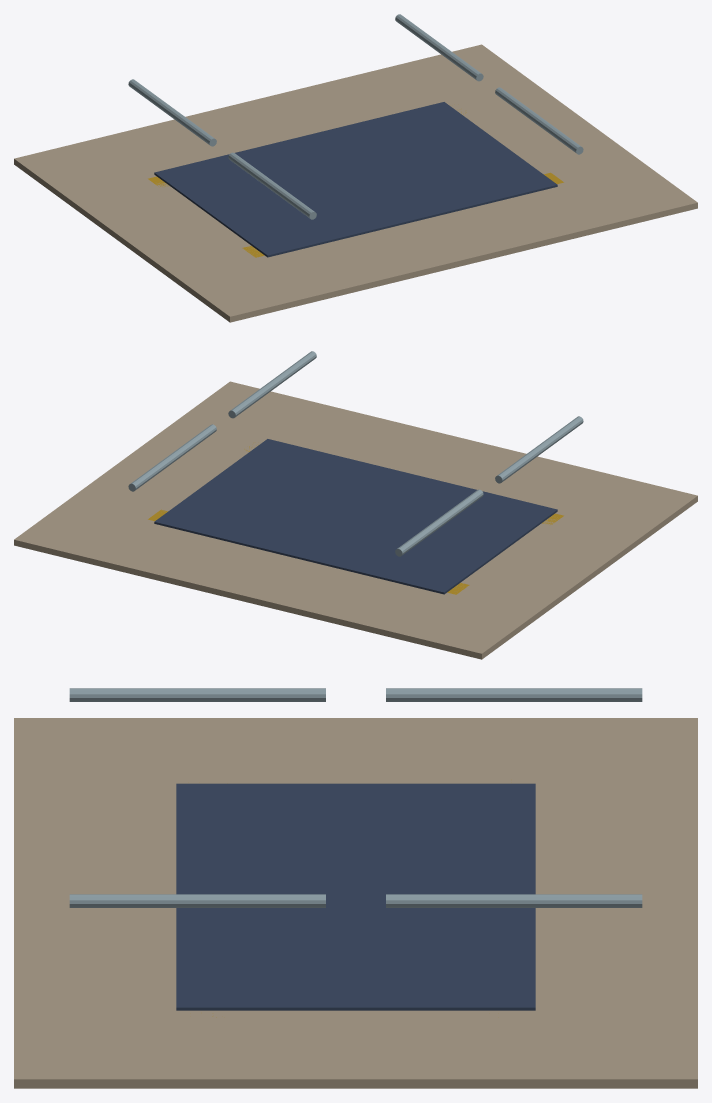
The model's file is stage_03_structural_frame.glb.
3 views of the same model, one above another, from view 1: azimuth 30°, elevation 25°; view 2: azimuth 150°, elevation 25°; view 3: azimuth 270°, elevation 25° (orthographic). The views are drawn at different scales.
Visible parts, largest first — view 1: world; view 2: world; view 3: world.
Boxes of the visible parts, x1,y1,x2,y2 form: world: (14,14,697,322); world: (14,351,697,659); world: (14,688,697,1088).
Bounding box in the file's own units: 10 × 2.18 × 8.
